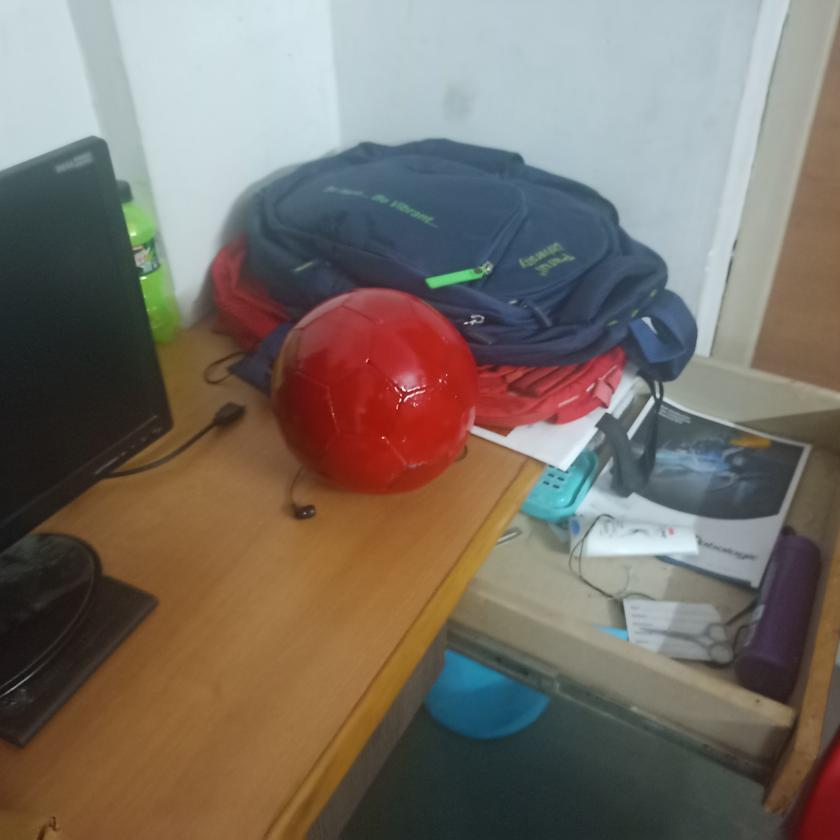Red_Ball: (259, 287, 491, 500)
